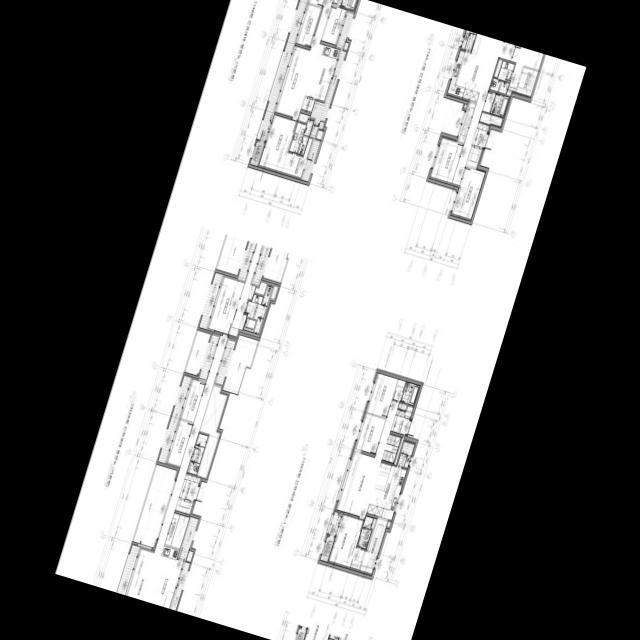background: (54, 0, 586, 640)
space_balconi: (257, 0, 306, 141), (309, 10, 354, 136), (132, 464, 176, 547), (157, 375, 190, 463), (222, 335, 257, 394), (198, 272, 221, 329), (184, 330, 210, 376), (117, 544, 138, 595), (215, 339, 235, 385), (170, 562, 189, 610), (198, 334, 218, 379), (178, 517, 198, 559), (301, 139, 320, 181), (252, 243, 271, 283), (237, 238, 255, 278), (396, 440, 414, 468), (460, 30, 476, 51), (327, 512, 340, 536)
space_bedroom: (258, 114, 296, 173), (327, 514, 364, 571), (207, 276, 243, 334), (450, 166, 484, 220), (507, 45, 543, 91), (429, 137, 462, 184), (365, 373, 397, 417), (354, 413, 385, 454), (166, 419, 192, 466), (295, 4, 321, 47), (179, 379, 204, 422), (321, 5, 346, 45)
space_dressroom: (358, 518, 387, 575), (280, 136, 312, 179), (515, 67, 537, 96)
space_front: (178, 474, 200, 501), (390, 409, 409, 434), (471, 122, 488, 148)
space_kitchen: (366, 462, 406, 520), (146, 545, 182, 608), (447, 50, 488, 102), (304, 44, 339, 101)
space_living_room: (125, 335, 227, 601), (451, 33, 514, 187), (335, 401, 398, 517), (274, 0, 332, 118)
space_other: (228, 242, 262, 336), (196, 385, 226, 478), (456, 101, 475, 142), (381, 433, 401, 463), (170, 515, 188, 548), (164, 513, 179, 545), (465, 146, 482, 168), (479, 112, 502, 127), (392, 379, 405, 401), (366, 518, 375, 549), (393, 437, 403, 464), (175, 499, 192, 514), (482, 91, 494, 112), (301, 97, 314, 112), (254, 282, 266, 295), (297, 113, 309, 123), (404, 405, 413, 417), (269, 286, 277, 299), (307, 0, 323, 6), (185, 550, 192, 561), (315, 130, 323, 139), (398, 403, 406, 410), (332, 0, 340, 6), (343, 42, 348, 50), (506, 91, 511, 96), (386, 521, 390, 527), (463, 104, 466, 108)
space_outdoor_room: (249, 141, 264, 166), (319, 536, 333, 562)
space_toilet: (243, 285, 272, 333), (489, 59, 514, 94), (288, 119, 312, 155), (187, 433, 207, 475), (356, 516, 372, 548), (489, 93, 508, 116), (400, 382, 418, 405), (340, 0, 356, 10)
